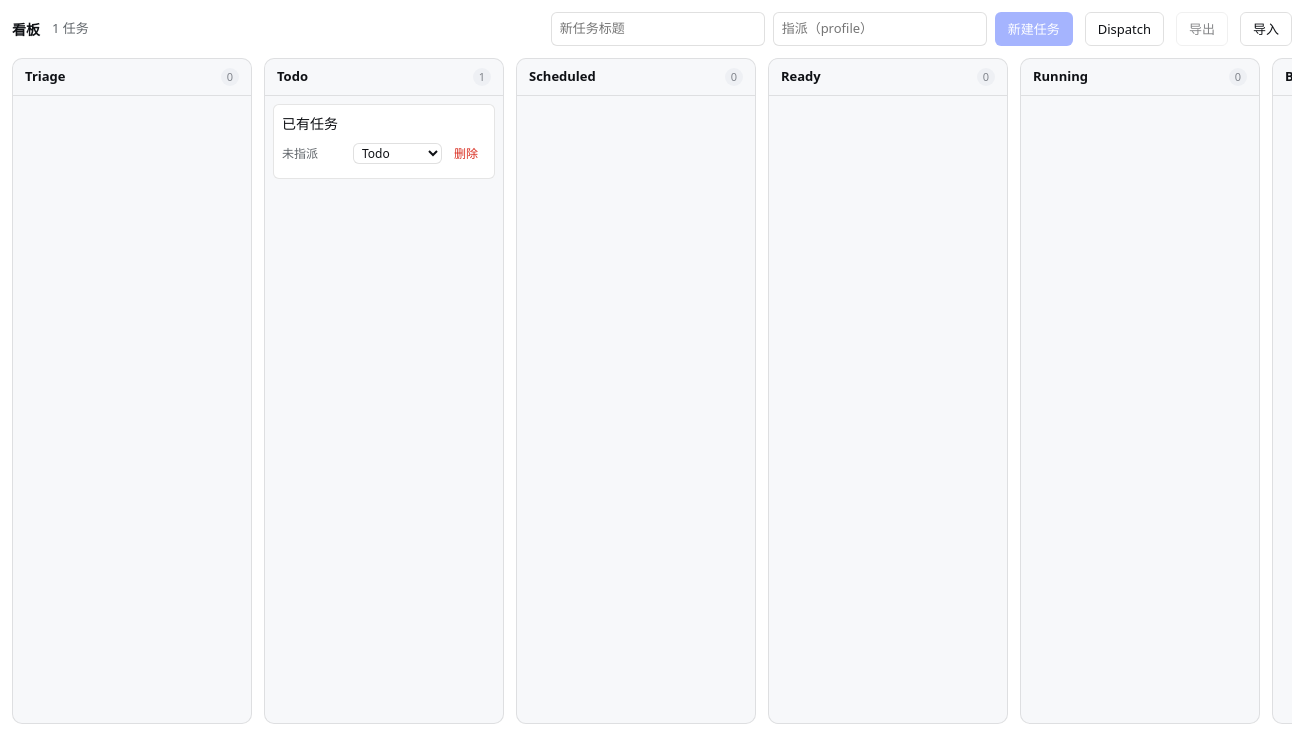
Test: KanbanPage › opens task detail when a card is clicked
The width and height of the screenshot is (1304, 732).
Click the button "已有任务" at {"x": 384, "y": 123}, box [282,112,486,134]
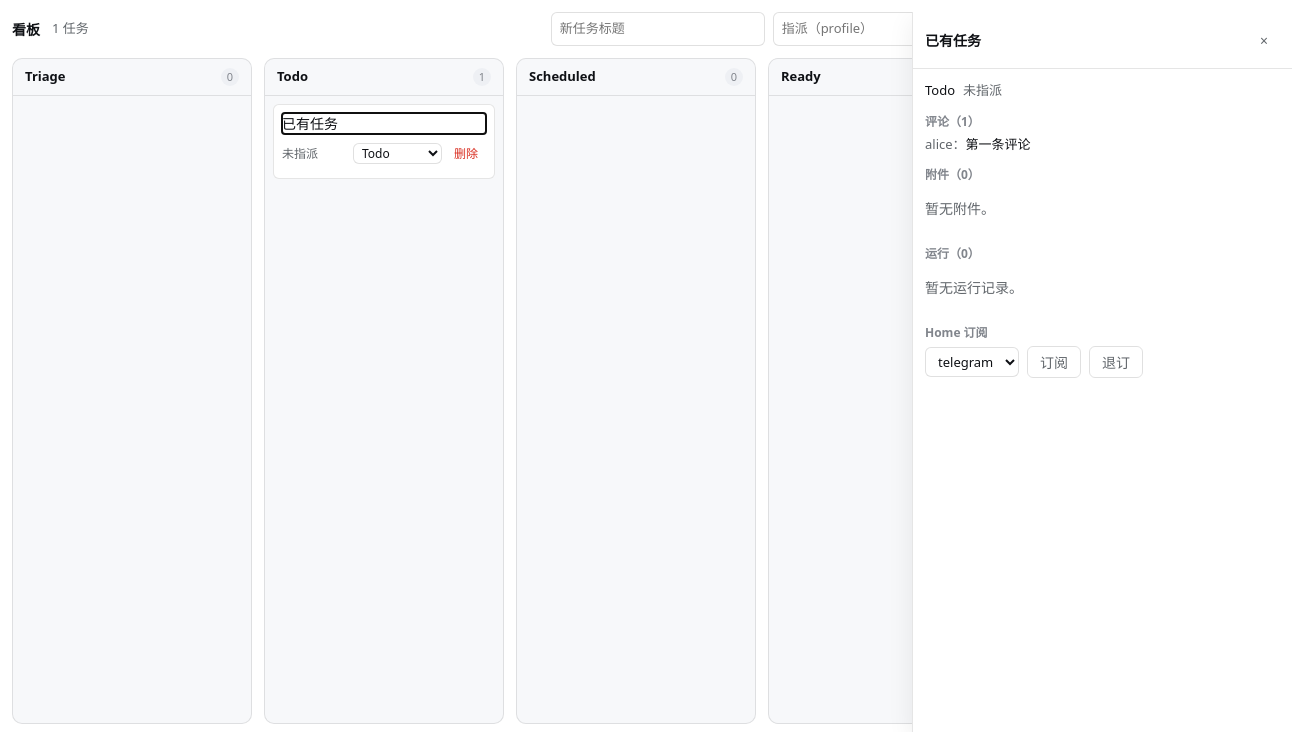
Expected: the element named "任务详情" is shown, [912,12,1292,731]
Expected: the list item "第一条评论" is shown, [966,134,1031,152]
